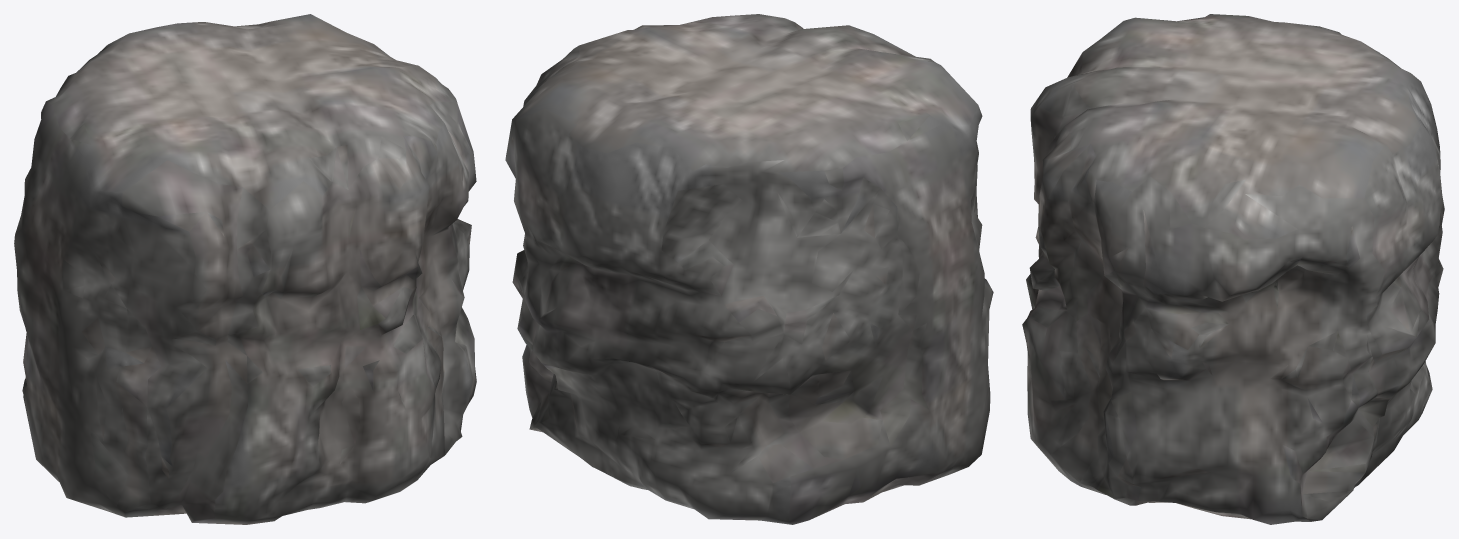
Rendered from SM_rock_01.glb.
3 views of the same model, side by side, from view 1: azimuth 30°, elevation 25°; view 2: azimuth 150°, elevation 25°; view 3: azimuth 270°, elevation 25° (orthographic). The views are drawn at different scales.
Visible parts, largest first — view 1: SM_rock_01; view 2: SM_rock_01; view 3: SM_rock_01.
Part boxes in pixels (x1=…): SM_rock_01: x1=14, y1=14, x2=476, y2=524; SM_rock_01: x1=505, y1=14, x2=993, y2=524; SM_rock_01: x1=1022, y1=14, x2=1444, y2=524.
Size of the model in its own units: 1.08 by 0.9045 by 0.9528.
1 material, 1 textured.
